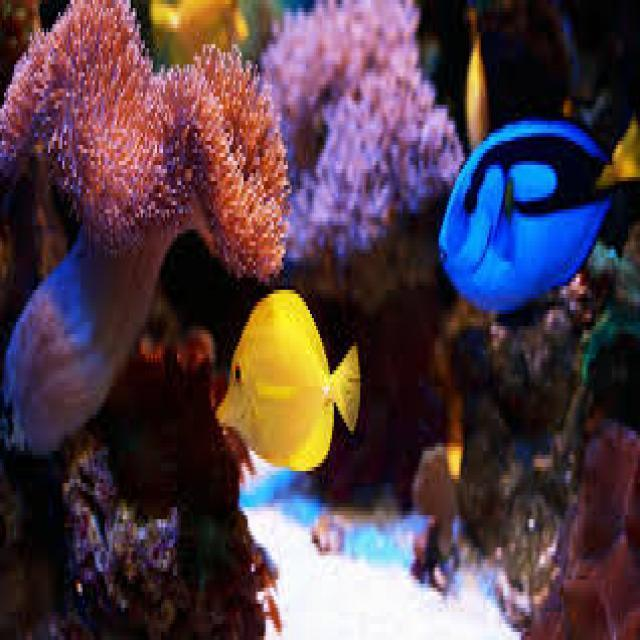TangFish: (429, 113, 640, 314), (213, 283, 364, 474)
